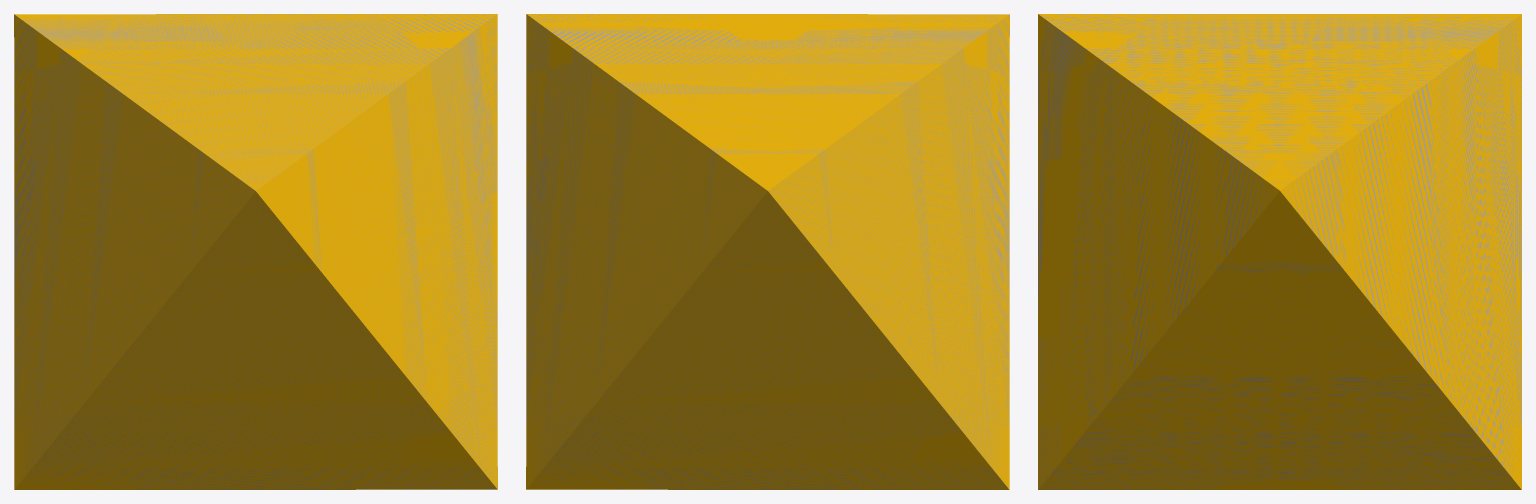
The picture shows the model from 3 angles, left to right: view 1: azimuth 30°, elevation 25°; view 2: azimuth 150°, elevation 25°; view 3: azimuth 270°, elevation 25°; orthographic projection.
Parts seen in each view (by area): view 1: SketchUp; view 2: SketchUp; view 3: SketchUp.
Part boxes in pixels (x1,y1,x2,y2): SketchUp: [14, 14, 497, 489]; SketchUp: [526, 14, 1009, 489]; SketchUp: [1038, 14, 1521, 489].
Bounding box in the file's own units: 64.26 × 55.68 × 45.5.
